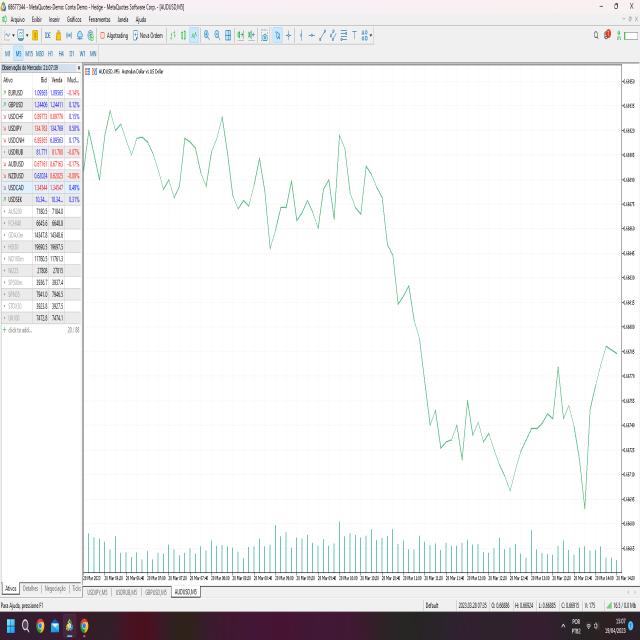oco: (535, 341, 581, 484)
topo_duplo: (178, 94, 233, 234)
